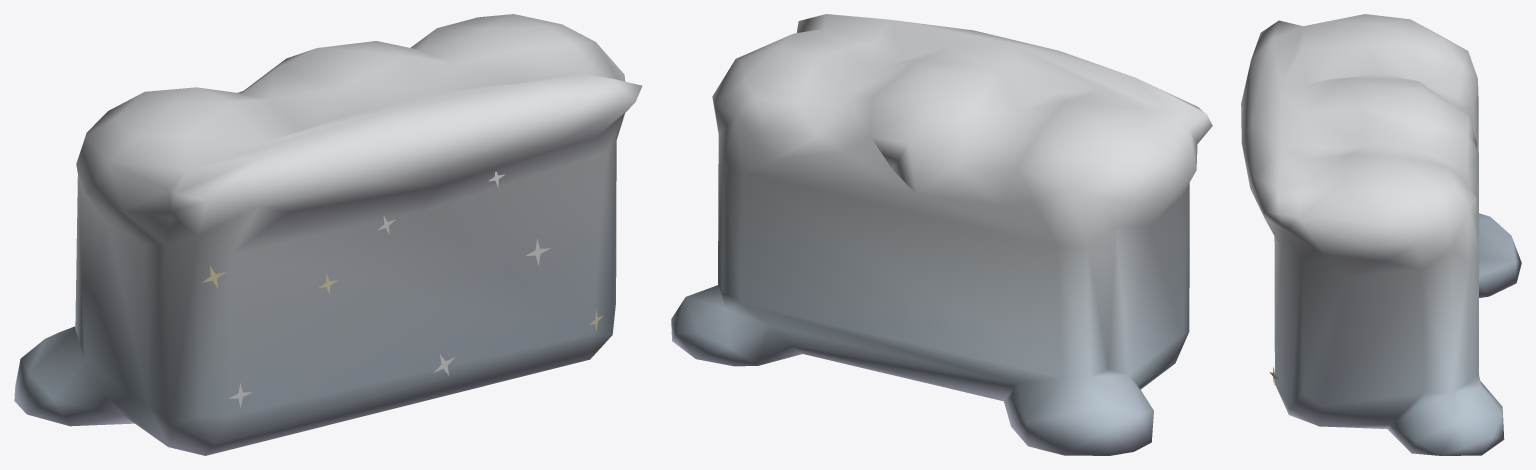
Rendered from snow-wall.glb.
3 renders of one model, left to right at view 1: azimuth 30°, elevation 25°; view 2: azimuth 150°, elevation 25°; view 3: azimuth 270°, elevation 25°, orthographic. The views are drawn at different scales.
Parts seen in each view (by area): view 1: snow-wall; view 2: snow-wall; view 3: snow-wall.
Boxes of the visible parts, x1,y1,x2,y2 form: snow-wall: (14, 14, 642, 455); snow-wall: (671, 14, 1212, 455); snow-wall: (1241, 14, 1521, 455).
Bounding box in the file's own units: 8.8 × 5 × 4.76.
